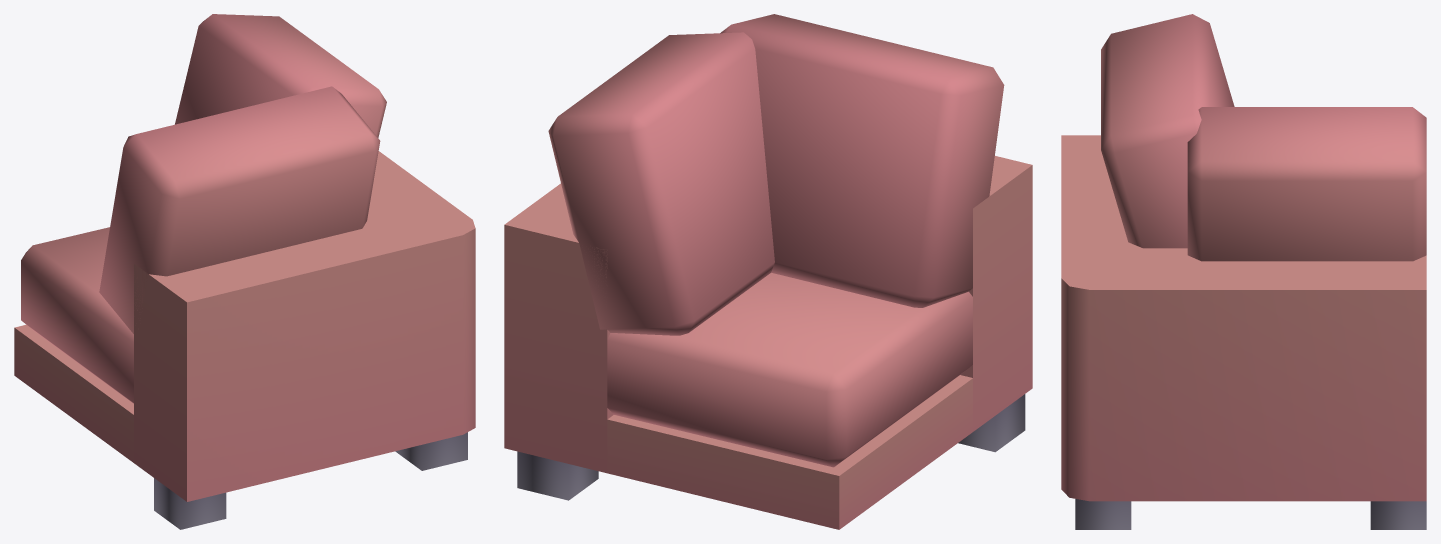
File: amsterdam-sofa-corner.glb
The picture shows the model from 3 angles, left to right: view 1: azimuth 30°, elevation 25°; view 2: azimuth 150°, elevation 25°; view 3: azimuth 270°, elevation 25°; orthographic projection. The views are drawn at different scales.
Parts seen in each view (by area): view 1: amsterdam-sofa-corner; view 2: amsterdam-sofa-corner; view 3: amsterdam-sofa-corner.
Boxes of the visible parts, x1,y1,x2,y2 form: amsterdam-sofa-corner: (14, 14, 475, 529); amsterdam-sofa-corner: (504, 14, 1032, 529); amsterdam-sofa-corner: (1061, 14, 1426, 529).
Bounding box in the file's own units: 0.65 × 0.7323 × 0.65.
